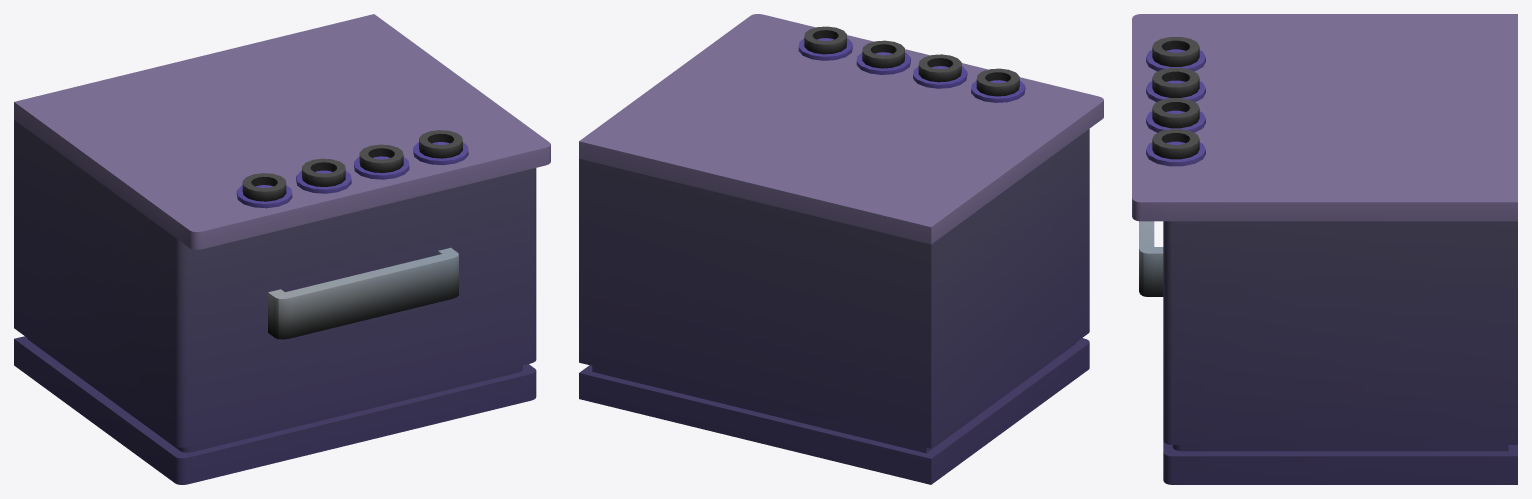
Rendered from Cupboard_Fire.fbx.
The picture shows the model from 3 angles, left to right: view 1: azimuth 30°, elevation 25°; view 2: azimuth 150°, elevation 25°; view 3: azimuth 270°, elevation 25°; orthographic projection. The views are drawn at different scales.
Visible parts, largest first — view 1: Cupboard; view 2: Cupboard; view 3: Cupboard.
Part boxes in pixels (box(x1,y1,x2,y2)): Cupboard: box(14, 14, 550, 484); Cupboard: box(579, 14, 1103, 484); Cupboard: box(1132, 14, 1517, 484).
Size of the model in its own units: 1.23 by 0.9085 by 1.07.
